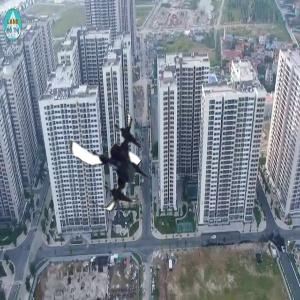drone: (57, 104, 163, 210)
